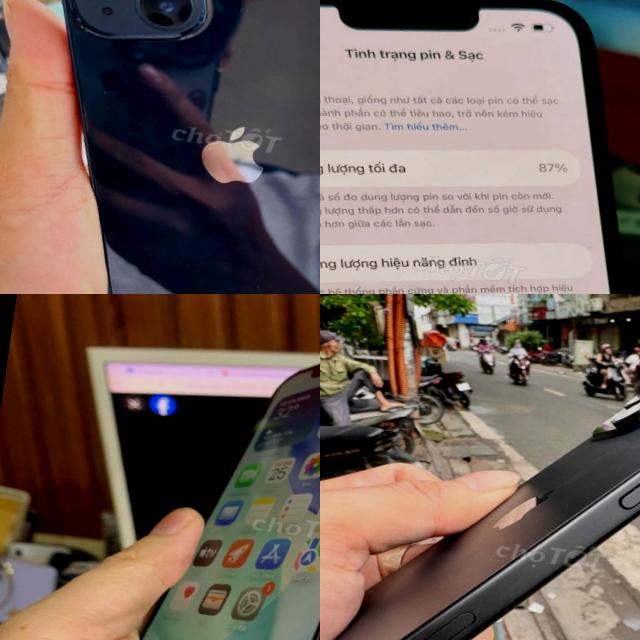gen_12_13: (0, 0, 320, 294), (320, 0, 640, 294), (74, 294, 320, 640)
gen_15: (320, 294, 640, 640)
scratch: (256, 407, 320, 640)
